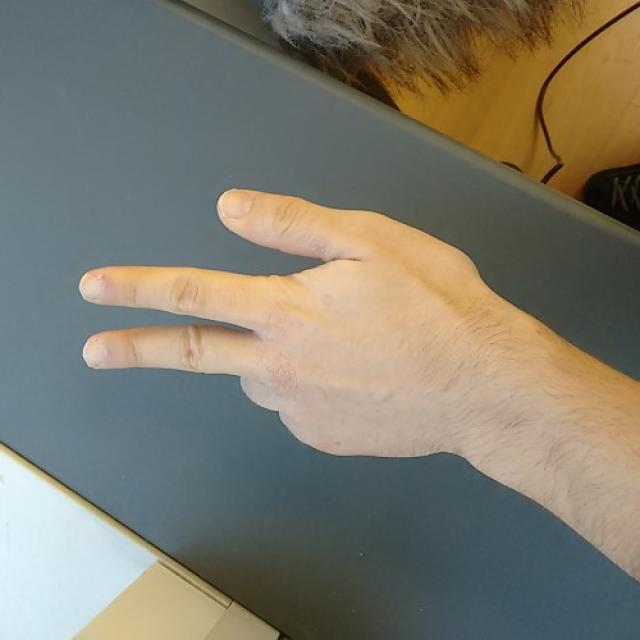scissors: (79, 184, 416, 456)
